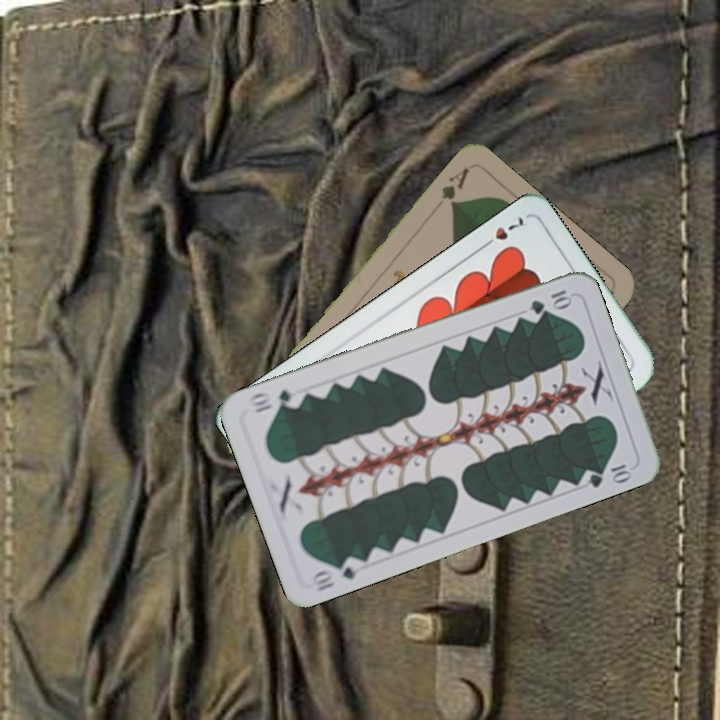G10: (306, 553, 366, 594), (526, 285, 575, 317)
GA: (437, 163, 473, 209)
H7: (477, 213, 527, 252)
